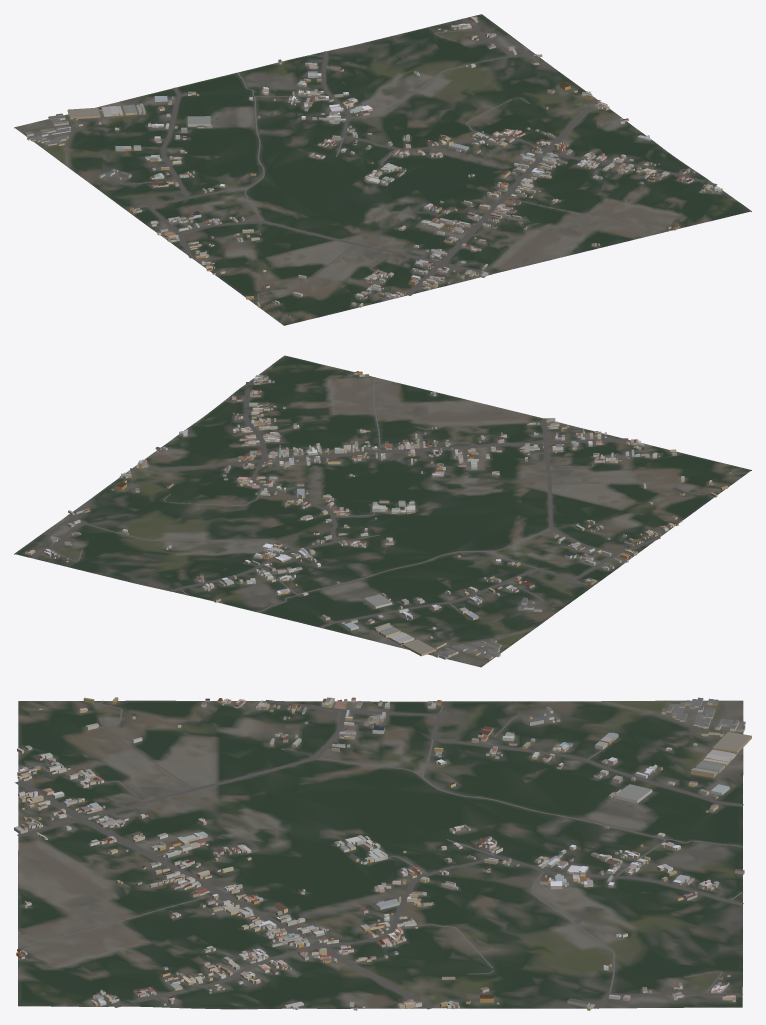
3 views of the same model, one above another, from view 1: azimuth 30°, elevation 25°; view 2: azimuth 150°, elevation 25°; view 3: azimuth 270°, elevation 25° (orthographic). The views are drawn at different scales.
Visible parts, largest first — view 1: ground, buildings, roads; view 2: ground, buildings, roads; view 3: ground, buildings, roads.
Part boxes in pixels (x1,y1,x2,y2): ground: [14, 14, 751, 325]; buildings: [24, 16, 722, 316]; roads: [120, 18, 717, 302]; ground: [14, 355, 751, 667]; buildings: [25, 371, 731, 660]; roads: [31, 377, 720, 628]; ground: [18, 700, 743, 1009]; buildings: [14, 697, 751, 1010]; roads: [15, 700, 743, 1009].
Size of the model in its own units: 1416 by 20.36 by 1426.
